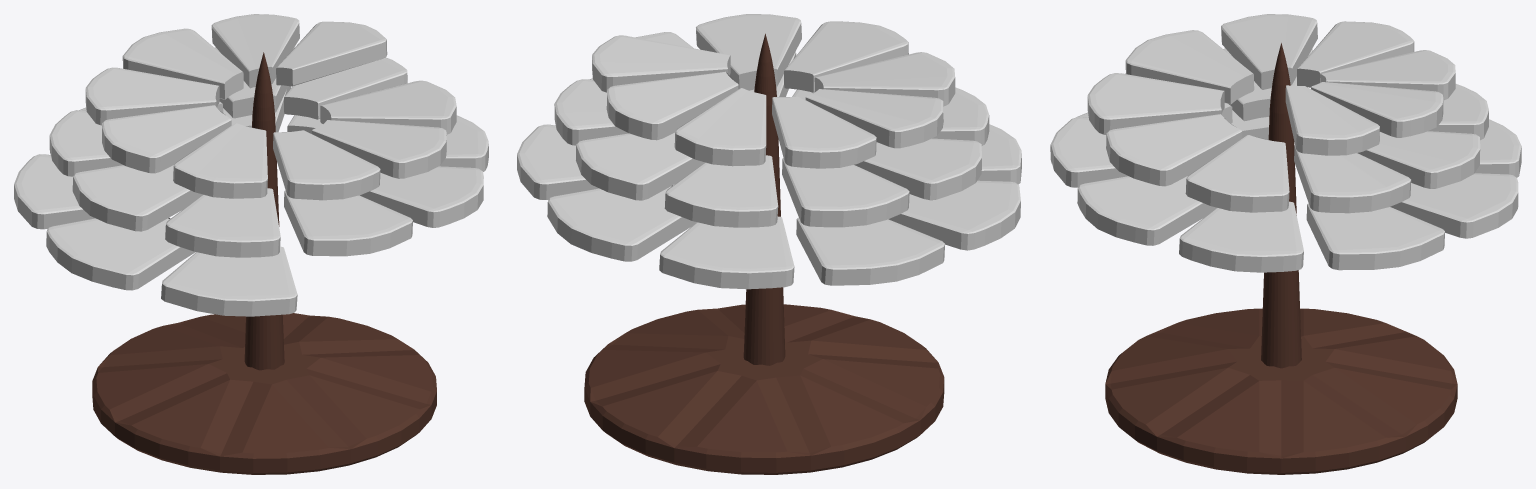
File: WindTower-level1.fbx
3 views of the same model, side by side, from view 1: azimuth 30°, elevation 25°; view 2: azimuth 150°, elevation 25°; view 3: azimuth 270°, elevation 25° (orthographic). The views are drawn at different scales.
Parts seen in each view (by area): view 1: Cube, Cylinder; view 2: Cube, Cylinder; view 3: Cube, Cylinder.
Boxes of the visible parts, left/top/right/bottom form: Cube: left=14, top=14, right=488, bottom=316; Cylinder: left=92, top=52, right=436, bottom=474; Cube: left=517, top=14, right=1021, bottom=289; Cylinder: left=584, top=33, right=944, bottom=474; Cube: left=1050, top=14, right=1521, bottom=272; Cylinder: left=1105, top=43, right=1457, bottom=474.
Bounding box in the file's own units: 1543 × 1250 × 1486.
